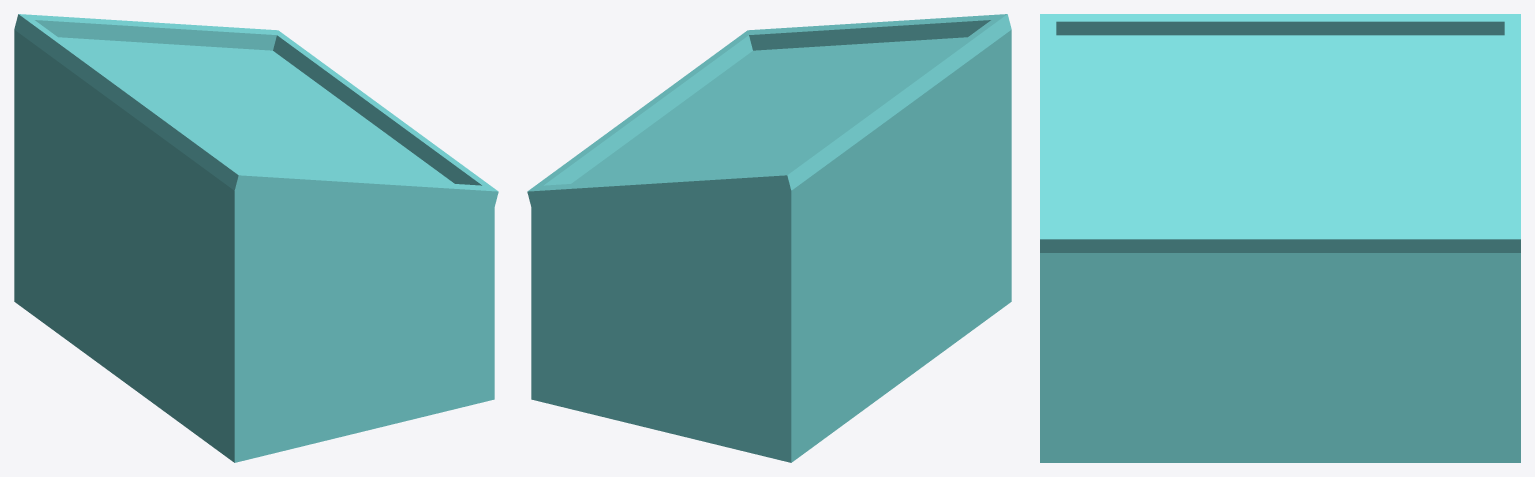
File: IceThingy.fbx
3 views of the same model, side by side, from view 1: azimuth 30°, elevation 25°; view 2: azimuth 150°, elevation 25°; view 3: azimuth 270°, elevation 25° (orthographic). The views are drawn at different scales.
Visible parts, largest first — view 1: Cube; view 2: Cube; view 3: Cube.
Boxes of the visible parts, x1,y1,x2,y2 form: Cube: (14, 14, 498, 462); Cube: (527, 14, 1011, 462); Cube: (1040, 14, 1520, 462).
Bounding box in the file's own units: 203 × 211 × 294.
